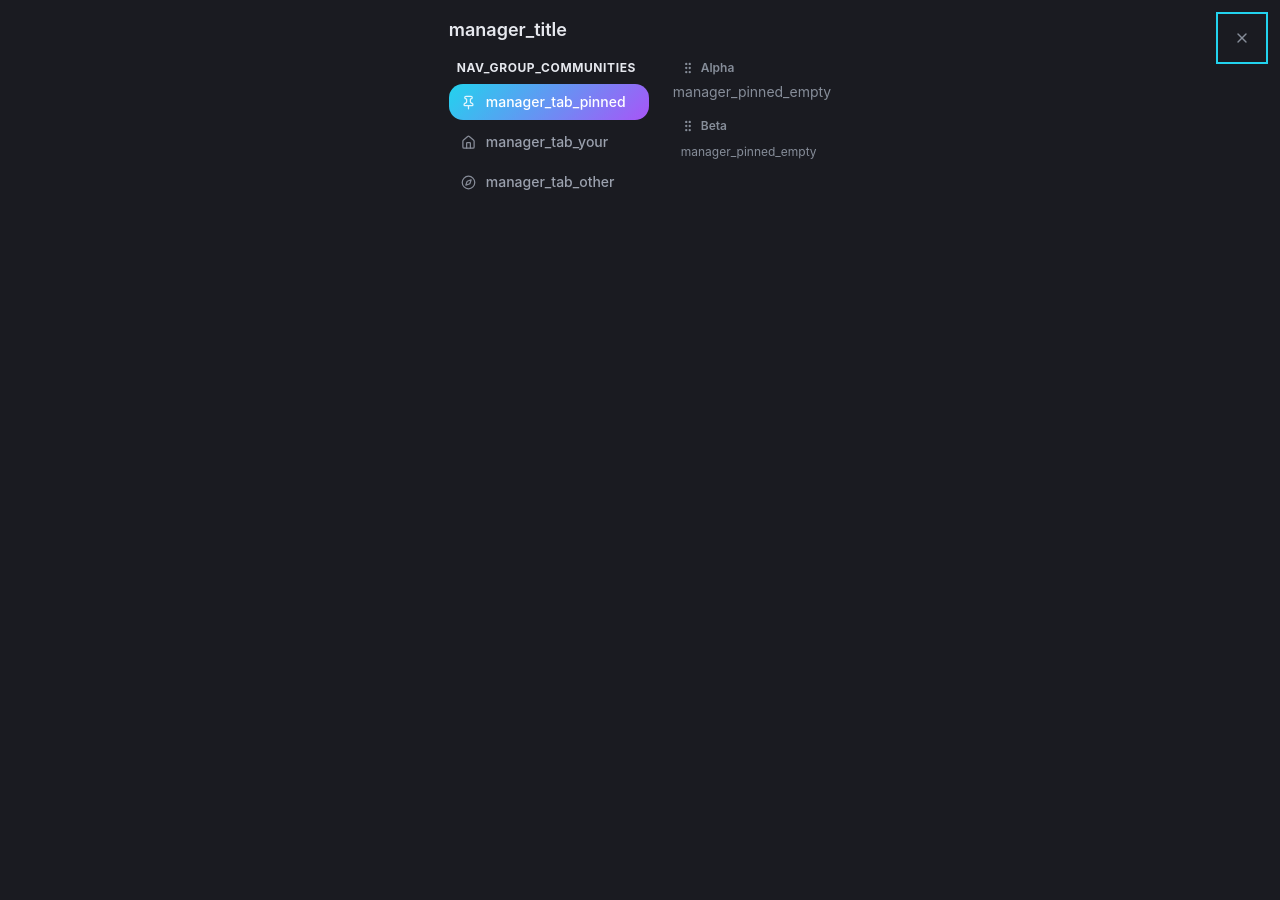
CommunityManagerModal desktop variant › excludes a private non-member community from the remote Other tab
The image size is (1280, 900).
Click the button with test id "manager-tab-other": x=549, y=182 [449,164,649,200]
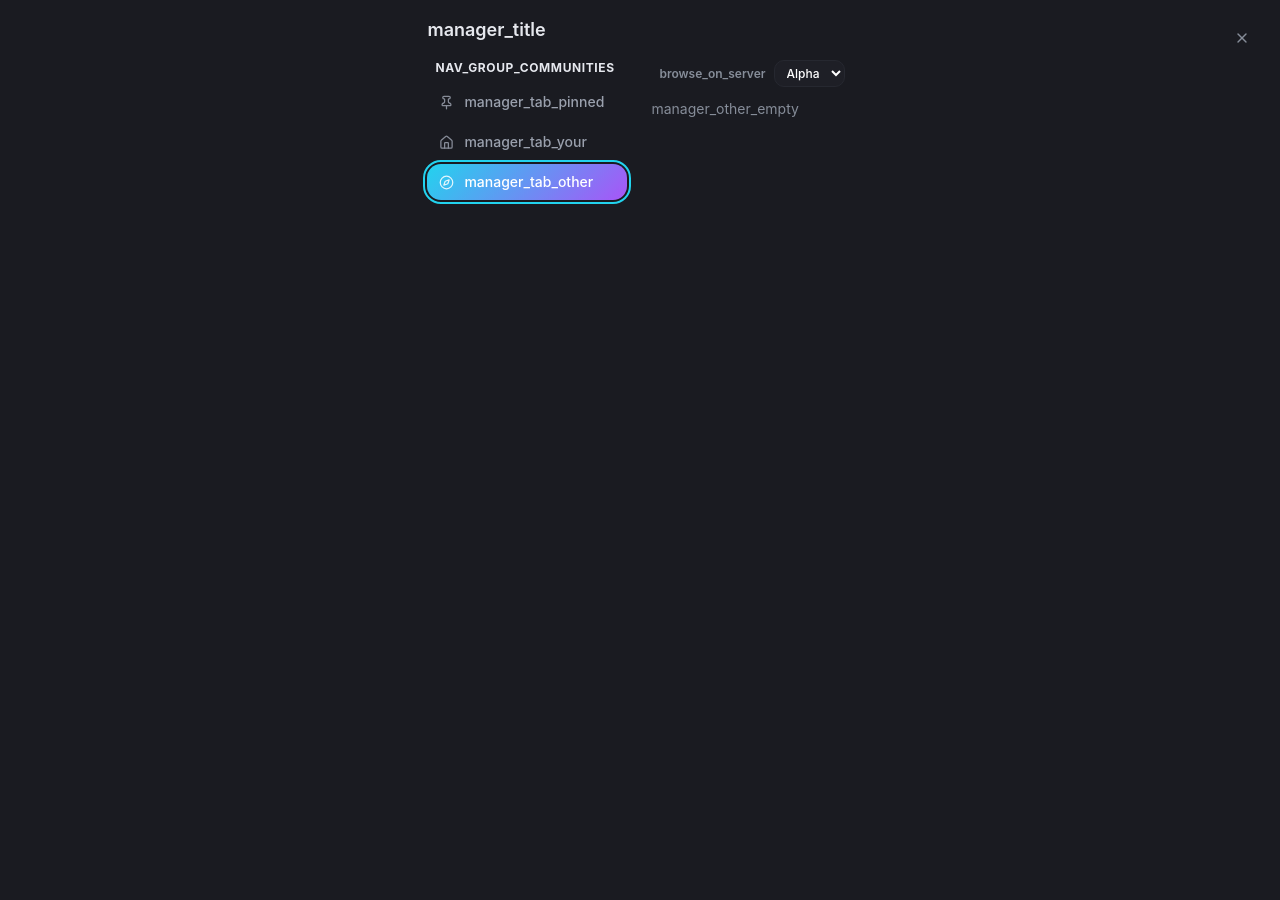
Select "Beta" in the dropdown with test id "manager-browse-select": x=809, y=74 [774,60,844,87]
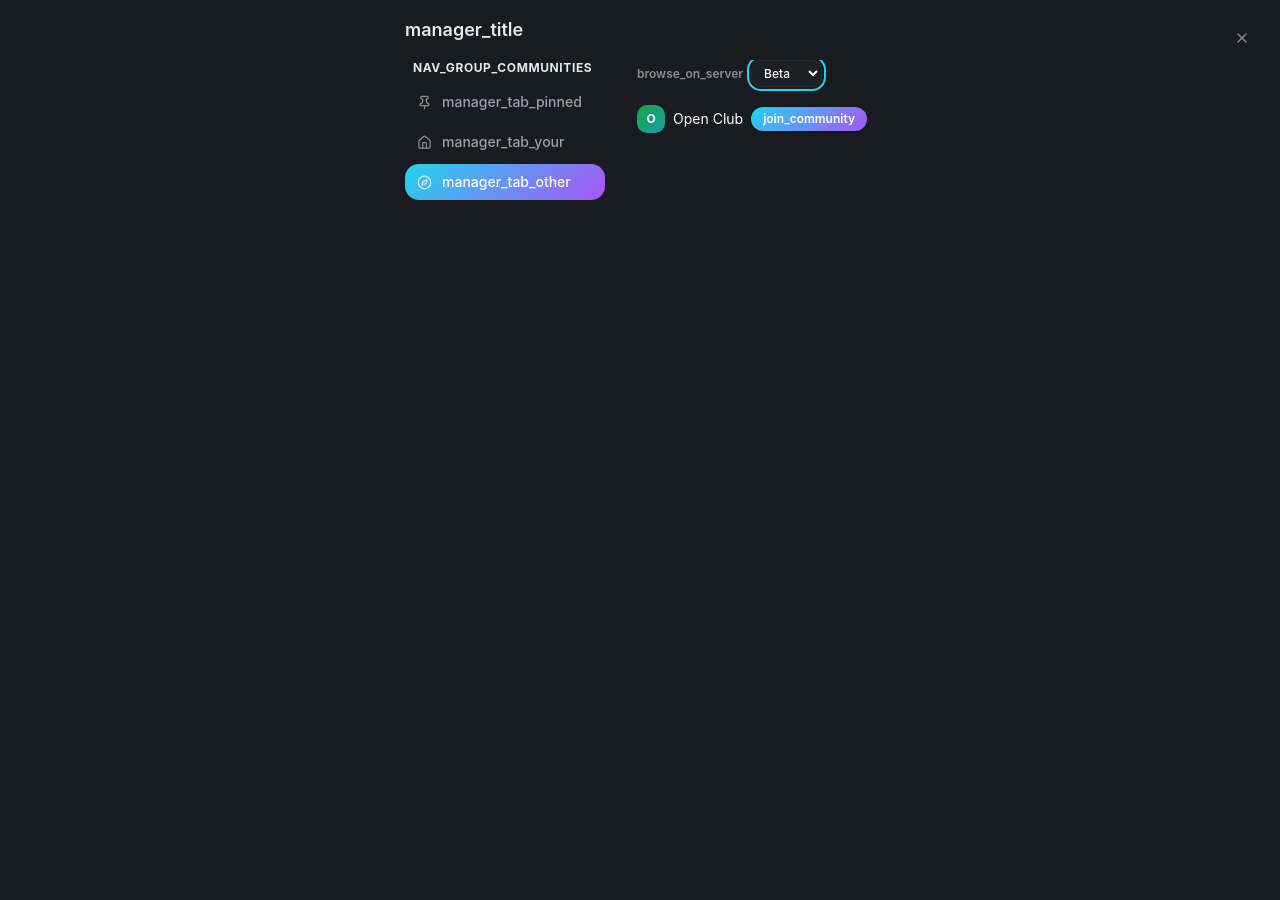
expect the text "Open Club" is shown: met, box [673,109,743,129]
